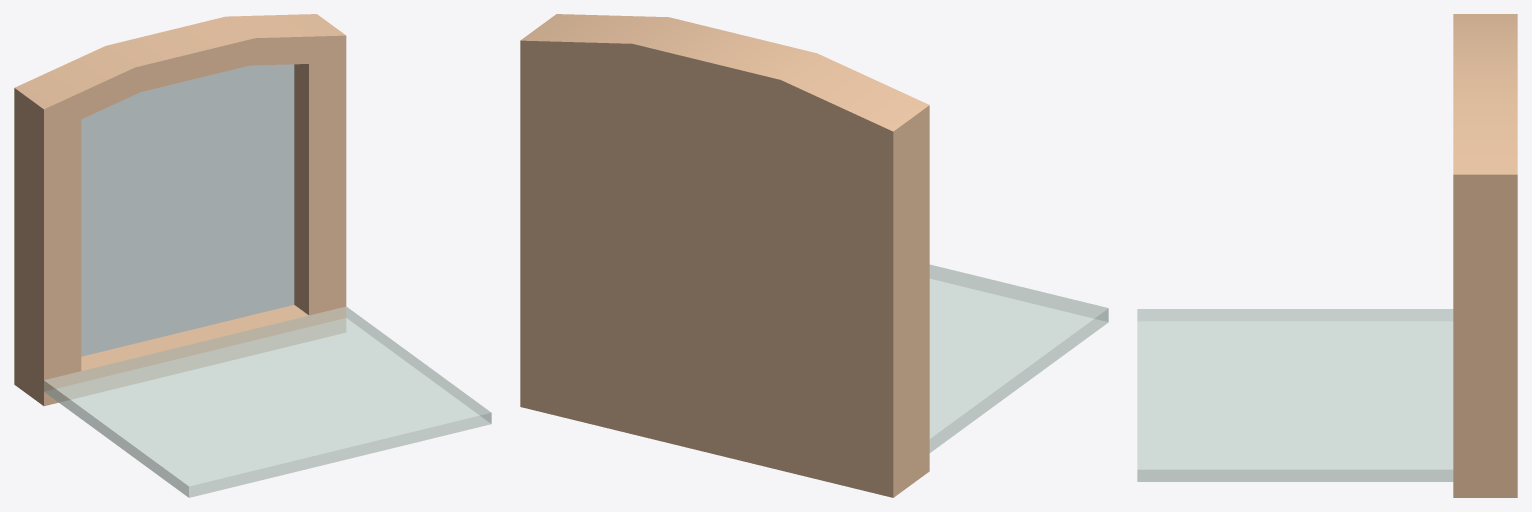
Rendered from kn-bathroom-mirror.glb.
3 views of the same model, side by side, from view 1: azimuth 30°, elevation 25°; view 2: azimuth 150°, elevation 25°; view 3: azimuth 270°, elevation 25° (orthographic). The views are drawn at different scales.
Visible parts, largest first — view 1: bathroomMirror(Clone); view 2: bathroomMirror(Clone); view 3: bathroomMirror(Clone).
Boxes of the visible parts, x1,y1,x2,y2 form: bathroomMirror(Clone): [14, 14, 491, 497]; bathroomMirror(Clone): [520, 14, 1108, 497]; bathroomMirror(Clone): [1137, 14, 1517, 497].
Bounding box in the file's own units: 1 × 1 × 1.
